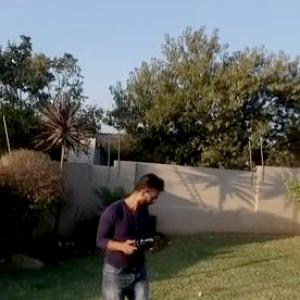follow: (92, 171, 166, 299)
